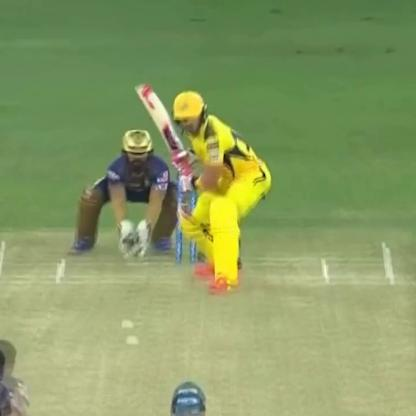ball: (118, 334, 142, 354), (116, 316, 134, 330)
bat: (135, 73, 198, 192)
pitch: (2, 230, 416, 415)
